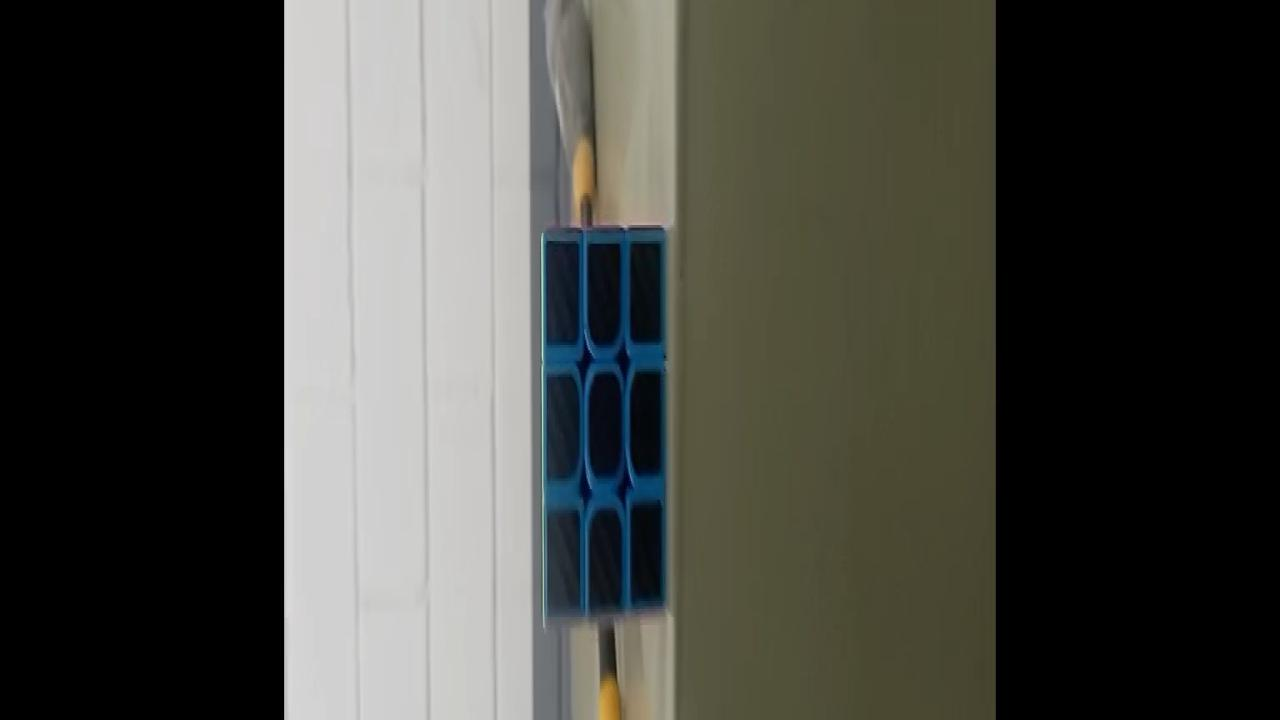Cube: (540, 222, 668, 632)
